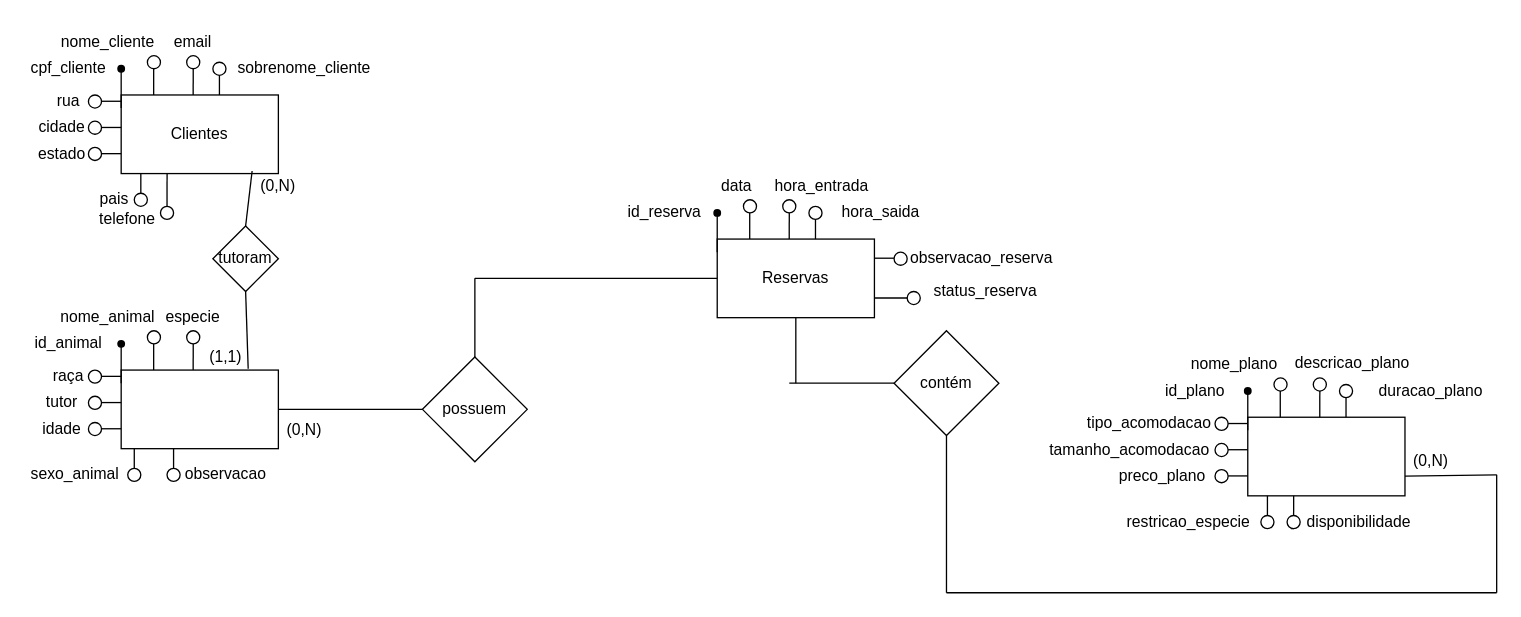
Some shapes in this 1521 by 617 pixel diagram are drawn without their labels. Here are the shapes that lost their labels. From the top down, the centre of each, then its label:
At (199,409): "Animais".
At (1325,456): "Planos".
